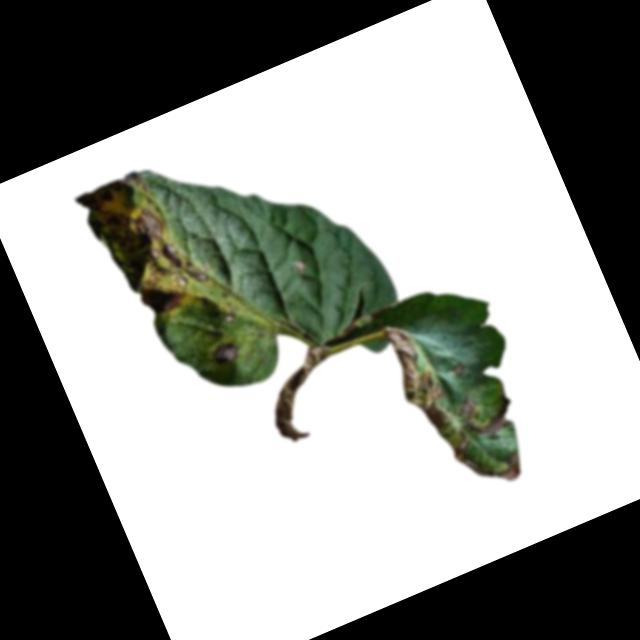Early_blight: (73, 158, 217, 327), (375, 314, 477, 475), (239, 339, 359, 452), (454, 384, 515, 442), (486, 449, 528, 487), (209, 337, 241, 367), (449, 362, 465, 377)
